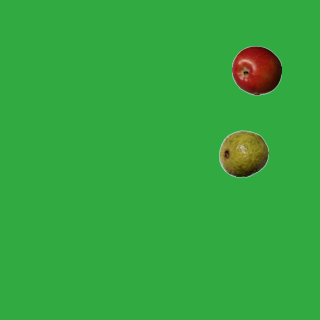Apple Braeburn: (231, 45, 281, 95)
Guava: (218, 128, 268, 178)
